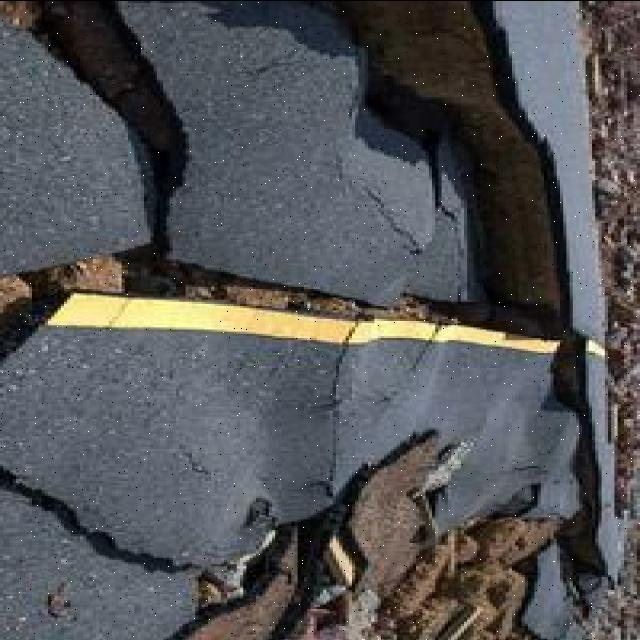road collapse: (0, 0, 600, 605)
